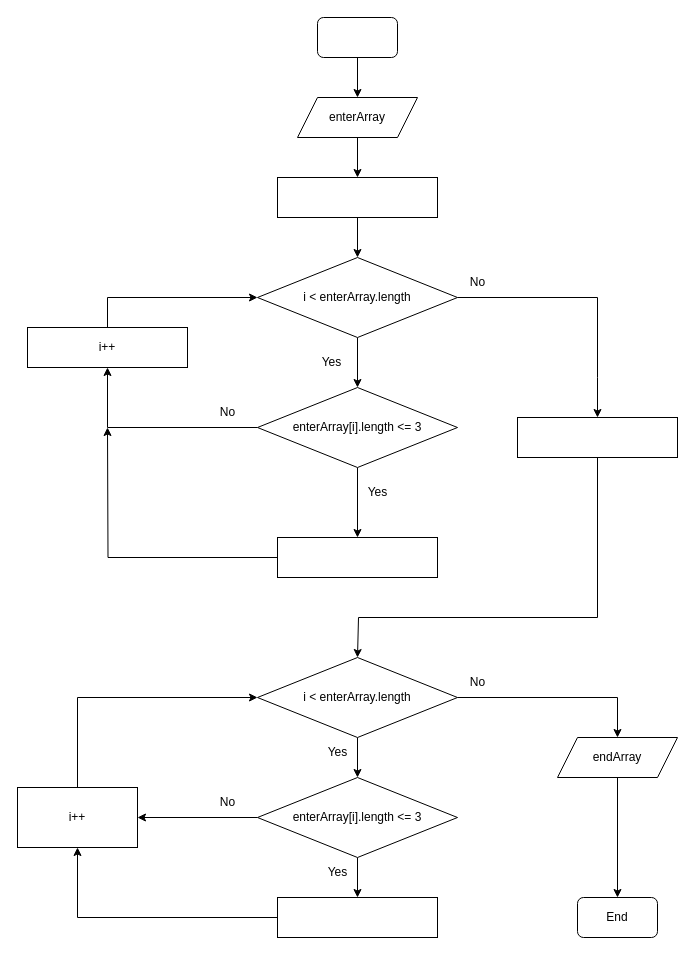
This 695x955 diagram has some shape labels left out. Here are the shapes that lost their labels. From the top down, the box of each, then its label:
(316, 16, 398, 58): Start
(276, 176, 438, 218): int i = 0, int lengthEndArr = 0
(516, 416, 678, 458): i = 0, int j = 0, endArray[lengthEndArr]
(276, 536, 438, 578): lengthEndArr++
(276, 896, 438, 938): enterArray[i] = endArray[j], j++
